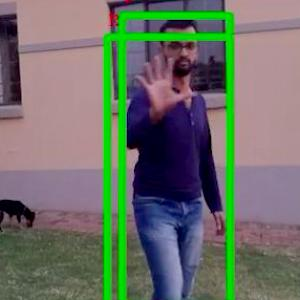follow_hand: (129, 47, 197, 120)
